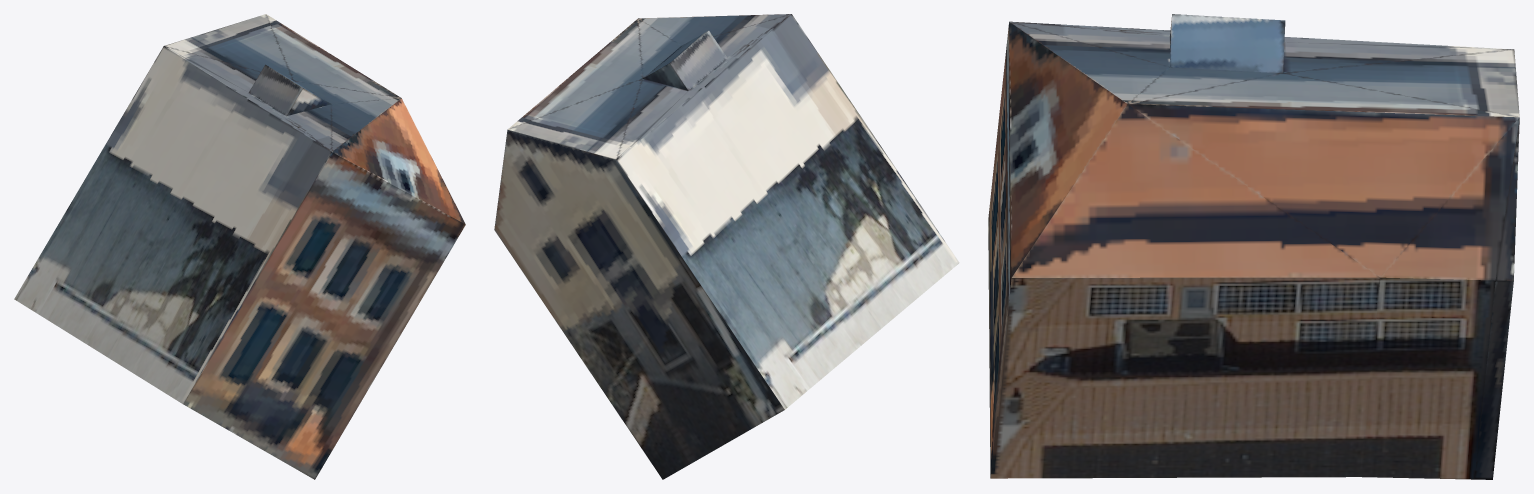
3 renders of one model, left to right at view 1: azimuth 30°, elevation 25°; view 2: azimuth 150°, elevation 25°; view 3: azimuth 270°, elevation 25°, orthographic. The views are drawn at different scales.
Visible parts, largest first — view 1: BAG_0599100000670784 (×6); view 2: BAG_0599100000670784 (×5); view 3: BAG_0599100000670784 (×4).
Boxes of the visible parts, x1,y1,x2,y2 form: BAG_0599100000670784 (×6): (14, 14, 465, 479); BAG_0599100000670784 (×5): (494, 14, 959, 479); BAG_0599100000670784 (×4): (988, 14, 1519, 479).
Size of the model in its own units: 10.15 by 11.44 by 10.77.
1 material, 1 textured.
